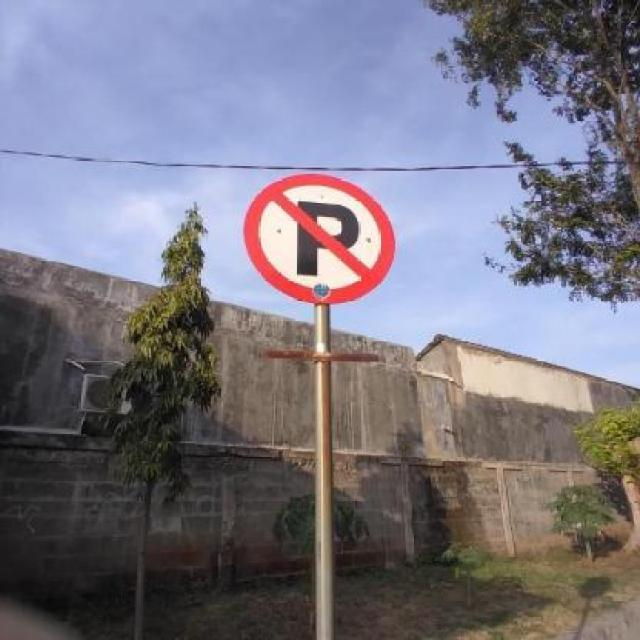no parking: (239, 168, 402, 308)
